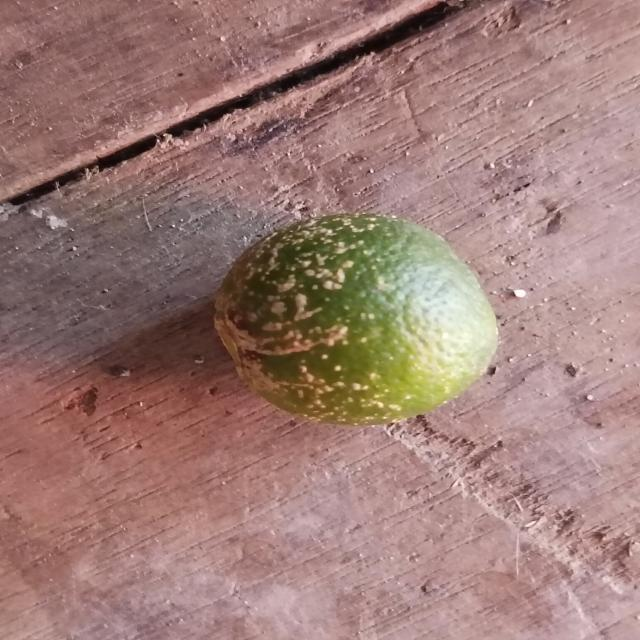scab: (212, 213, 485, 432)
